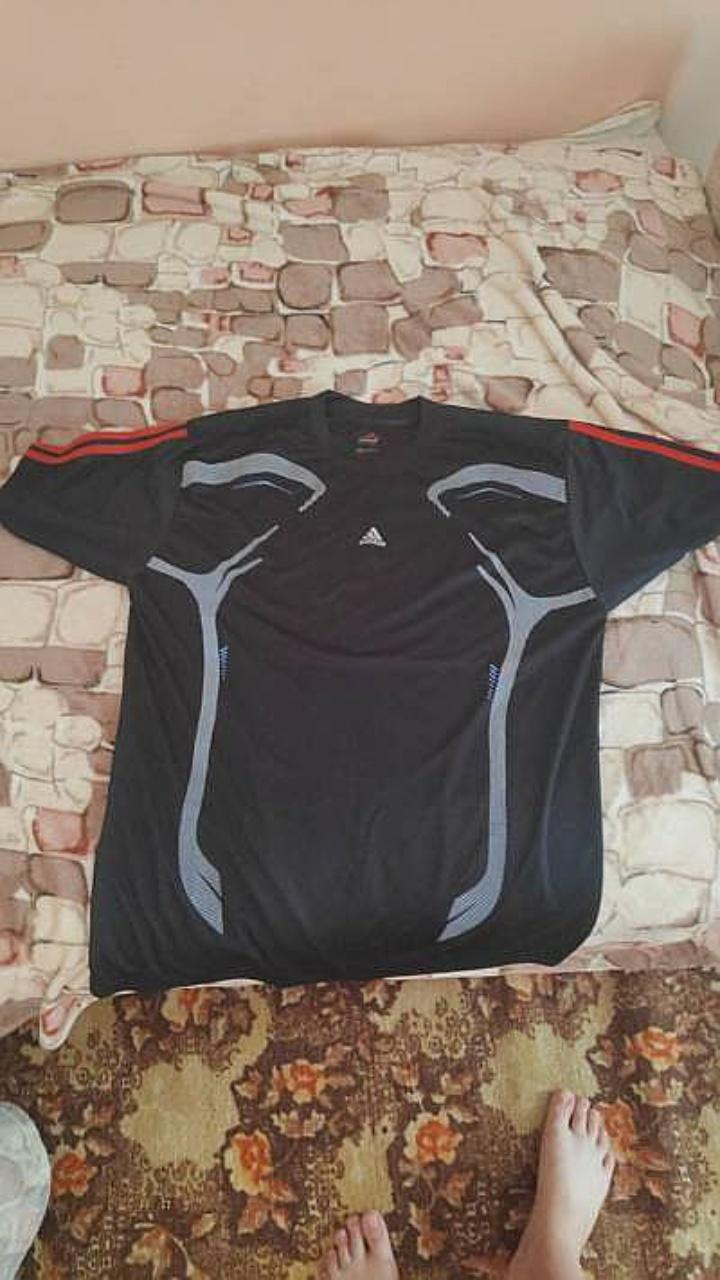T-Shirt: (0, 391, 719, 995)
